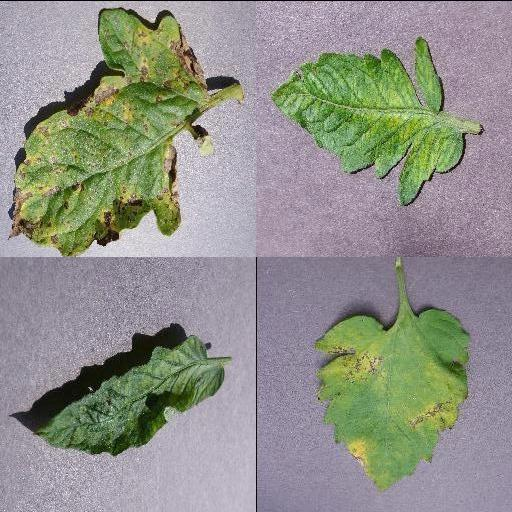Mosaic Virus: (270, 36, 466, 204), (32, 332, 225, 458)
Septoria: (6, 7, 208, 256), (312, 303, 474, 493)
